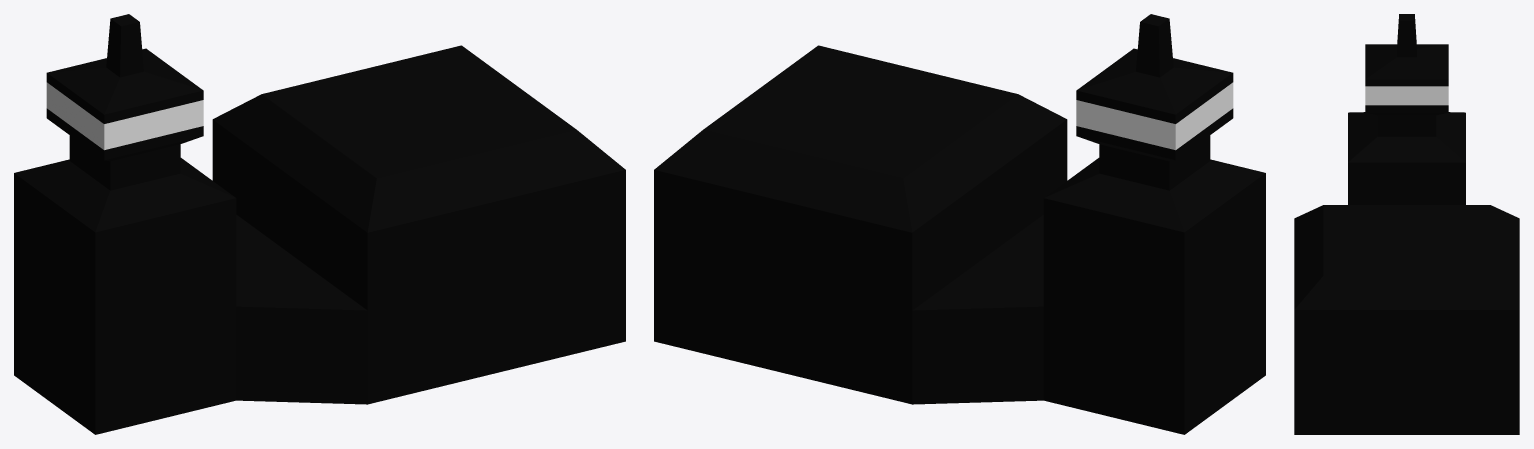
The model's file is controlCenter.fbx.
The picture shows the model from 3 angles, left to right: view 1: azimuth 30°, elevation 25°; view 2: azimuth 150°, elevation 25°; view 3: azimuth 270°, elevation 25°; orthographic projection. The views are drawn at different scales.
Visible parts, largest first — view 1: MissileLaunchSite; view 2: MissileLaunchSite; view 3: MissileLaunchSite.
Part boxes in pixels (bbox=[...]): MissileLaunchSite: bbox=[14, 14, 625, 434]; MissileLaunchSite: bbox=[654, 14, 1265, 434]; MissileLaunchSite: bbox=[1294, 14, 1519, 434].
Bounding box in the file's own units: 701 × 499 × 381.
